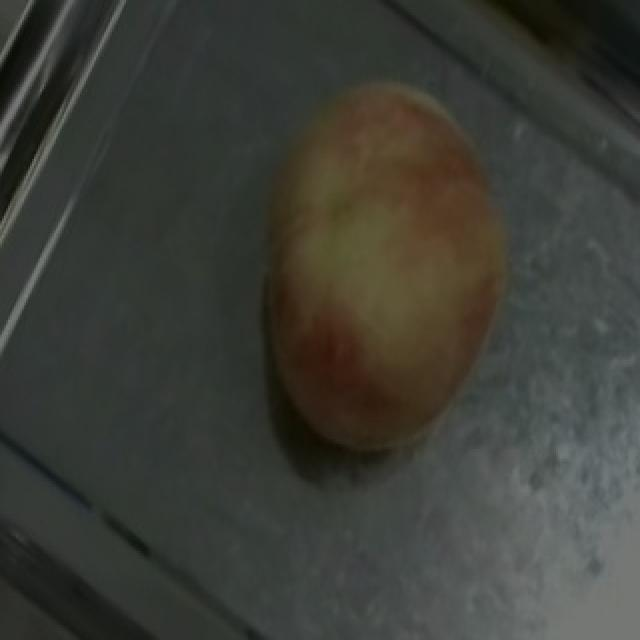Fruit: (226, 40, 558, 382)
